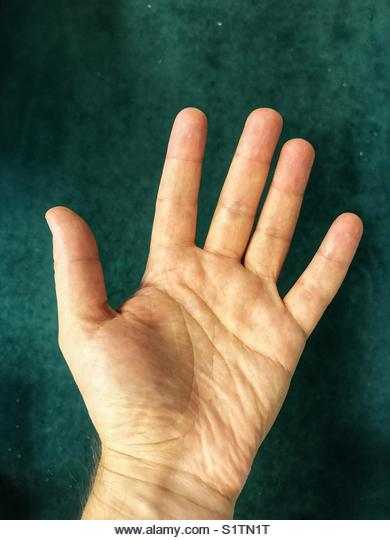non-diseased: (48, 93, 369, 472)
